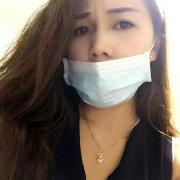WRONG: (66, 7, 154, 103)
